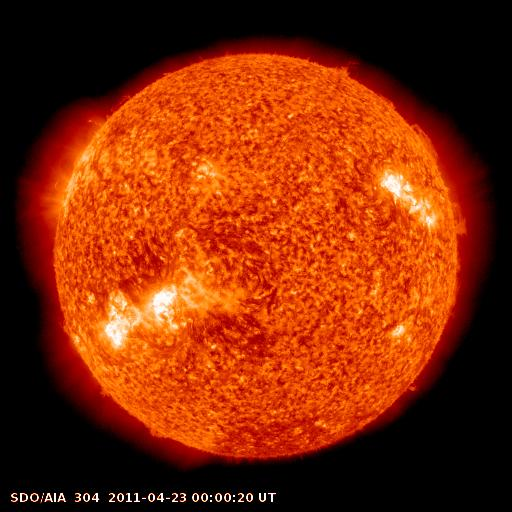prominence: (411, 117, 446, 168), (445, 192, 474, 242), (135, 413, 170, 447), (327, 52, 363, 84), (373, 85, 403, 120)
